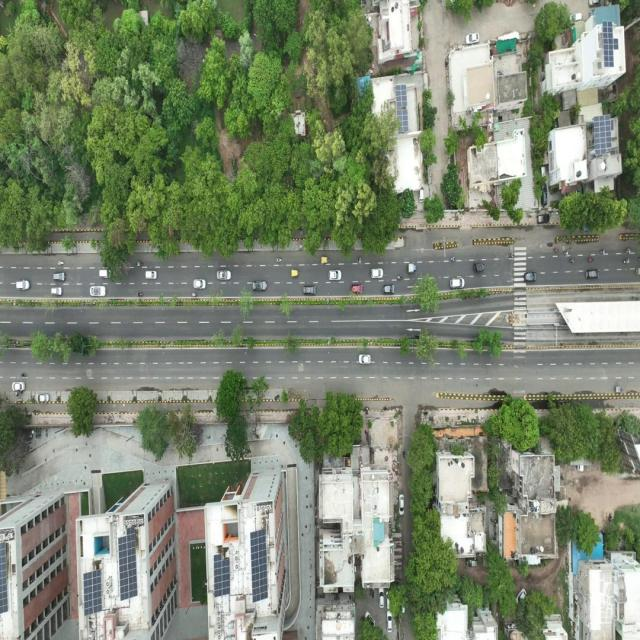3W: (473, 261, 486, 274), (290, 268, 301, 279), (320, 255, 330, 266)
Cars: (89, 284, 107, 298), (464, 31, 482, 45), (449, 276, 466, 290), (385, 608, 394, 634), (216, 268, 232, 282), (16, 279, 32, 292), (252, 279, 268, 292), (302, 284, 318, 297), (398, 493, 406, 518), (377, 587, 386, 609), (350, 282, 364, 296), (370, 266, 384, 280), (12, 379, 26, 393), (523, 270, 538, 283), (36, 391, 51, 404), (327, 270, 343, 282), (584, 268, 600, 280), (144, 268, 158, 281), (192, 277, 206, 290), (382, 283, 396, 296), (52, 271, 67, 283), (358, 353, 371, 366), (50, 286, 64, 297), (536, 214, 550, 225)
LCV: (99, 269, 113, 280), (407, 262, 417, 275), (614, 385, 624, 395)
M2W: (135, 260, 144, 268), (20, 371, 29, 379), (275, 256, 283, 264), (587, 256, 595, 264), (599, 248, 607, 256), (356, 256, 363, 265), (395, 274, 404, 281), (56, 260, 66, 266), (136, 291, 144, 298), (449, 256, 457, 263), (506, 252, 514, 259), (622, 258, 631, 264), (570, 257, 577, 264), (625, 248, 632, 255), (553, 246, 559, 254), (563, 250, 570, 256), (192, 293, 198, 297)
